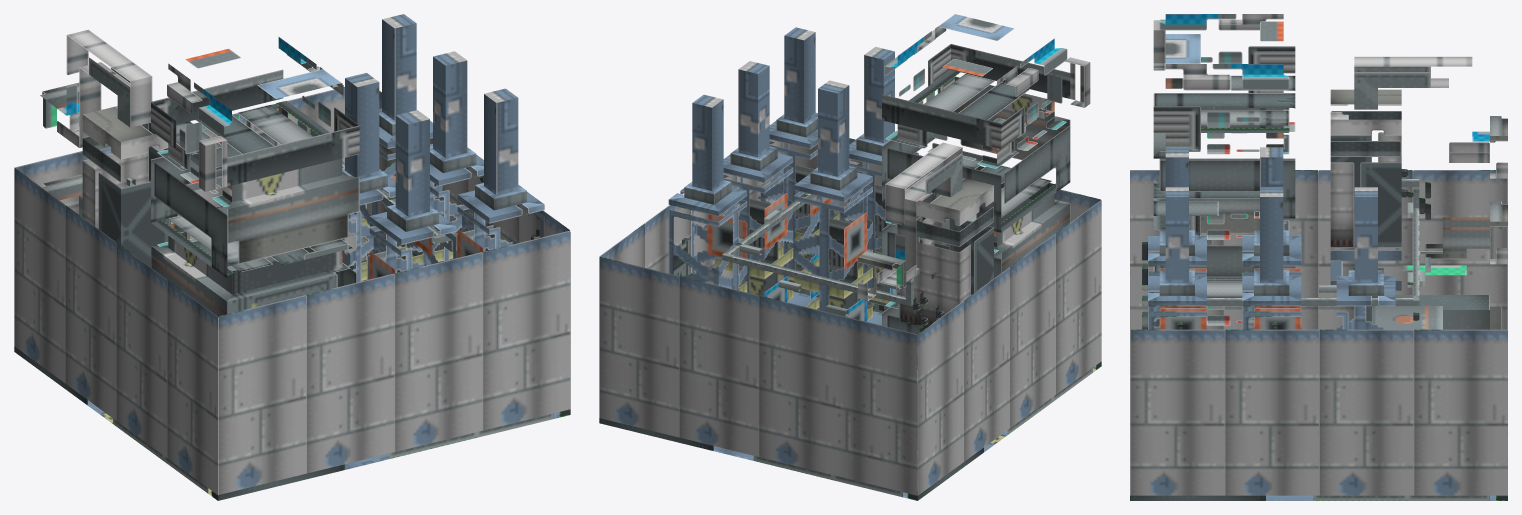
Rendered from steam_cracker.obj.
3 renders of one model, left to right at view 1: azimuth 30°, elevation 25°; view 2: azimuth 150°, elevation 25°; view 3: azimuth 270°, elevation 25°, orthographic. The views are drawn at different scales.
Visible parts, largest first — view 1: SteamCracker_Plane.022; view 2: SteamCracker_Plane.022; view 3: SteamCracker_Plane.022.
Part boxes in pixels (bbox=[...]): SteamCracker_Plane.022: bbox=[14, 14, 570, 500]; SteamCracker_Plane.022: bbox=[599, 14, 1101, 500]; SteamCracker_Plane.022: bbox=[1130, 14, 1507, 500].
Size of the model in its own units: 4 by 4 by 4.
